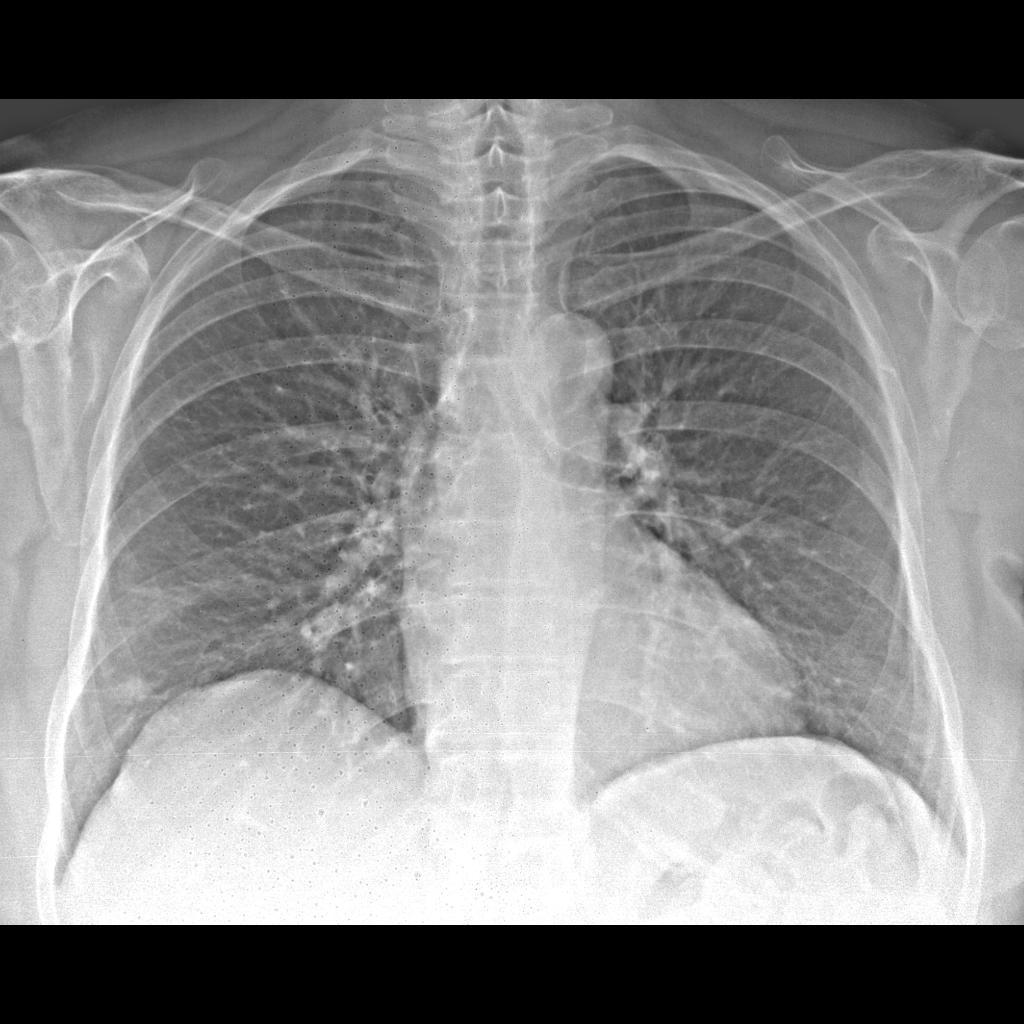Nodule: (115, 669, 149, 711)
